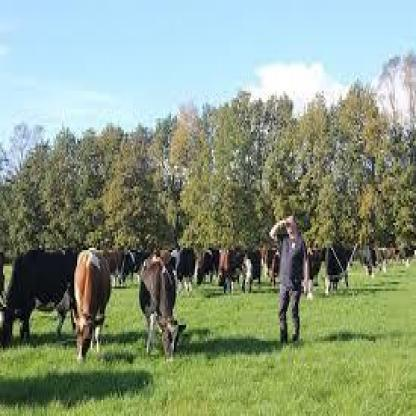cow: (0, 246, 76, 350), (140, 254, 187, 364), (74, 246, 112, 364), (321, 243, 352, 298), (216, 247, 242, 294), (169, 247, 194, 294), (306, 245, 322, 302), (263, 245, 282, 291), (195, 247, 216, 285), (118, 249, 139, 287), (243, 250, 262, 291), (101, 249, 120, 287)
